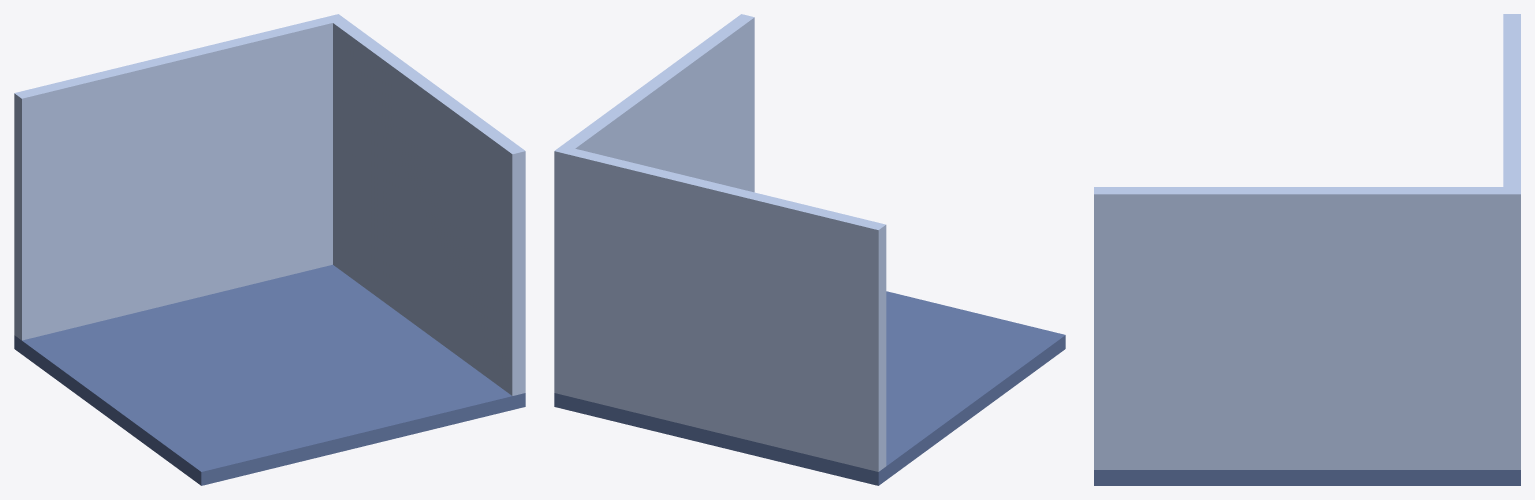
Rendered from room3.glb.
3 renders of one model, left to right at view 1: azimuth 30°, elevation 25°; view 2: azimuth 150°, elevation 25°; view 3: azimuth 270°, elevation 25°, orthographic. The views are drawn at different scales.
Visible parts, largest first — view 1: room3; view 2: room3; view 3: room3.
Boxes of the visible parts, box(x1,y1,x2,y2) form: room3: box(14, 14, 525, 485); room3: box(554, 14, 1065, 485); room3: box(1094, 14, 1520, 485).
Bounding box in the file's own units: 3.65 × 2.75 × 3.65.
